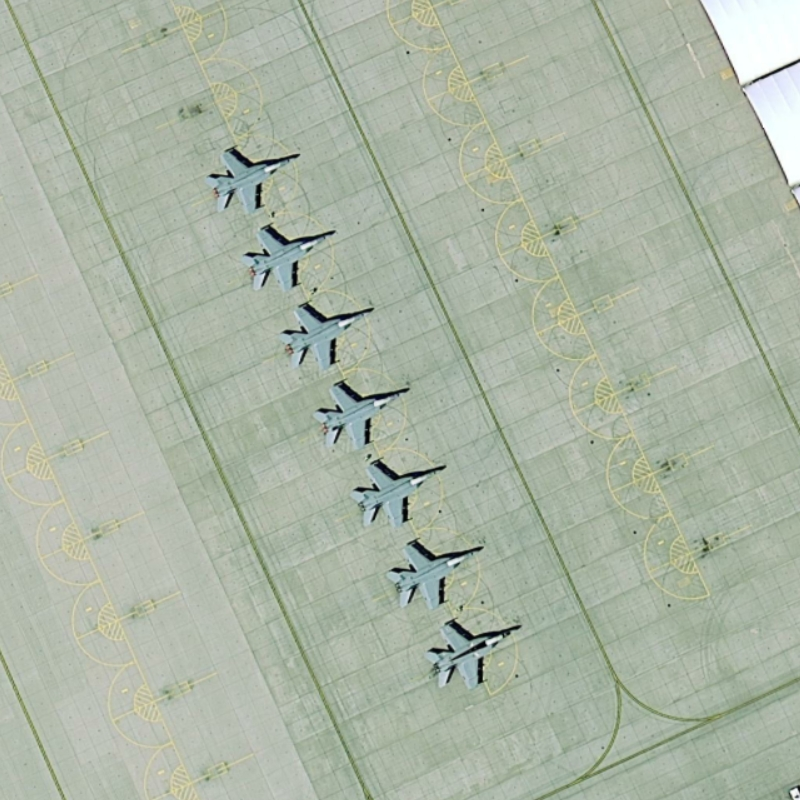A16: (308, 379, 415, 455), (384, 535, 484, 613), (419, 617, 523, 692), (238, 223, 341, 296), (276, 301, 380, 372), (347, 461, 449, 532), (204, 146, 305, 217)
